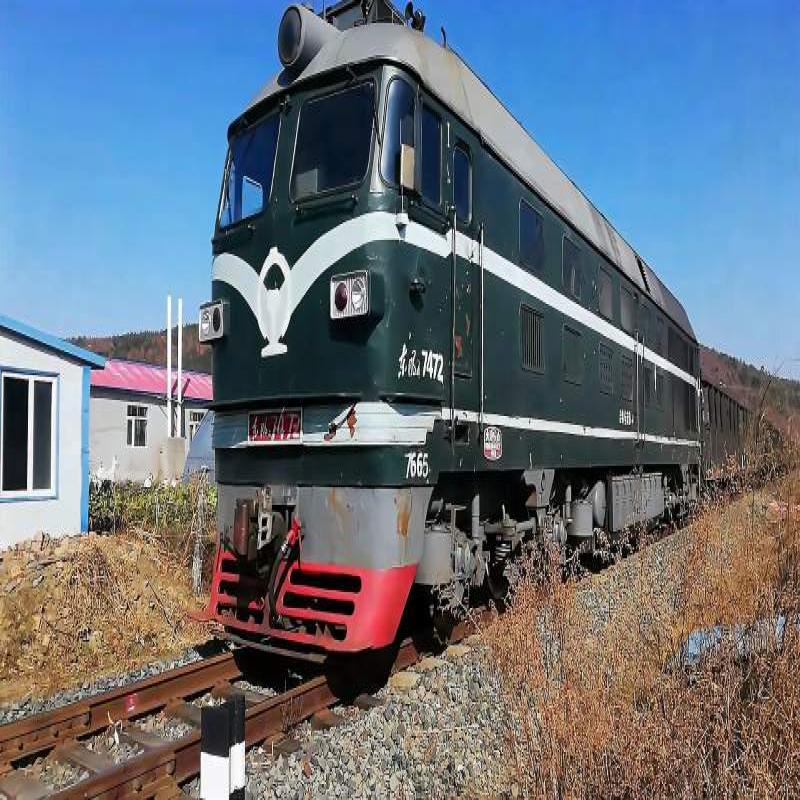train: (185, 3, 719, 621)
